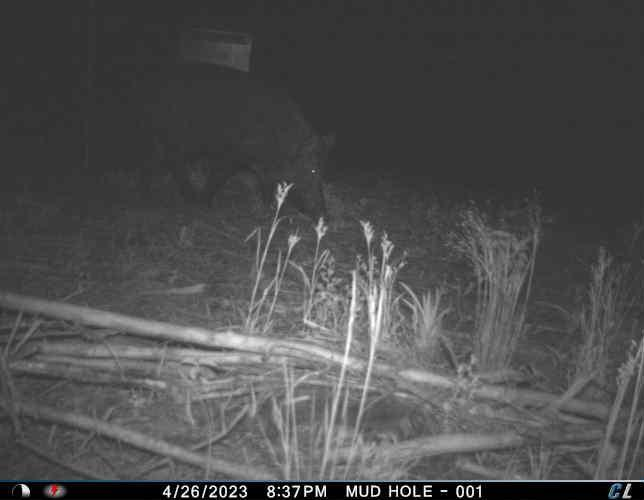Hog: (91, 51, 344, 225)
